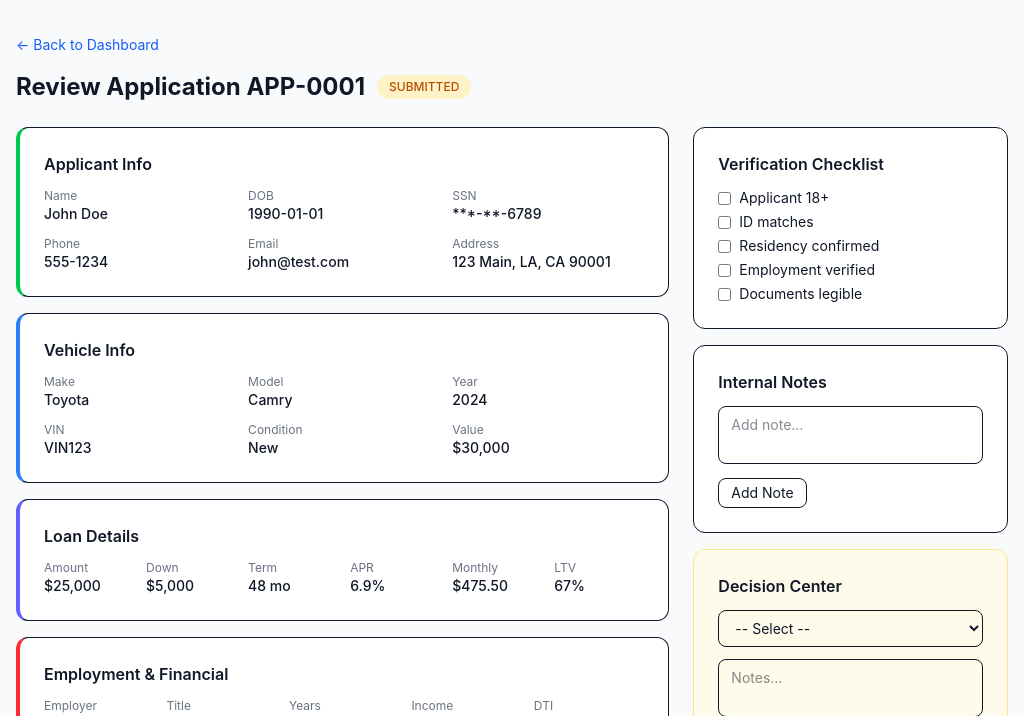
Test case: LoanOfficerReviewPage › handles non-Error action failure
The image size is (1024, 716).
Select "Start Verification" in the dropdown named "Action" at (851, 628), box [718, 610, 983, 647]
(page scrolled)
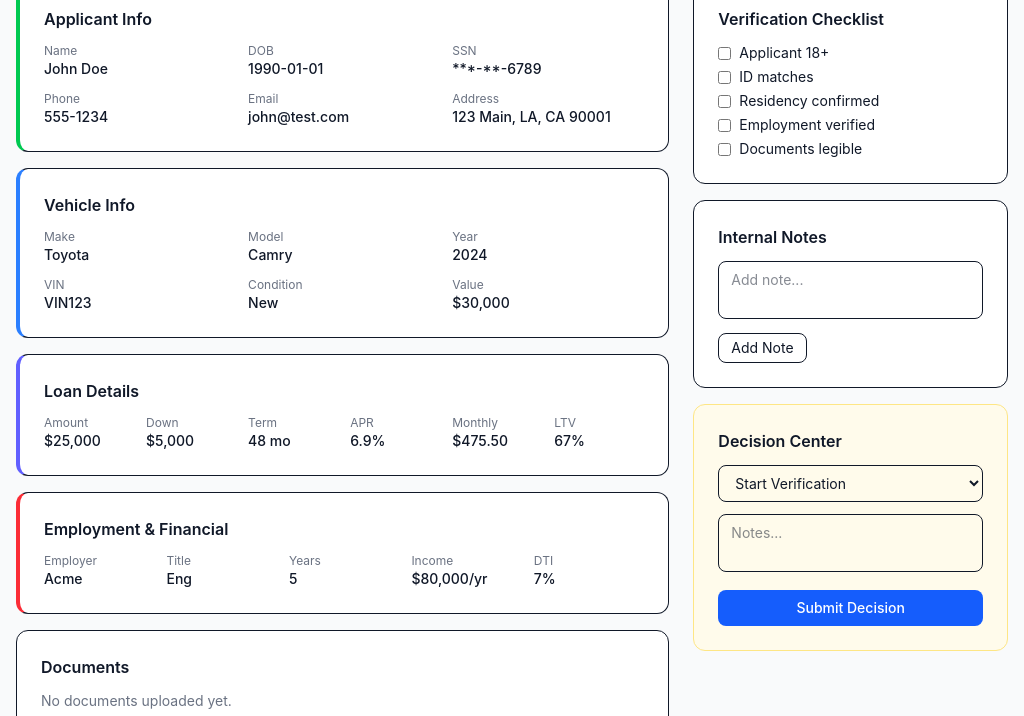
Click the button with test id "decision-btn" at (851, 608), box [718, 590, 983, 626]
(page scrolled)
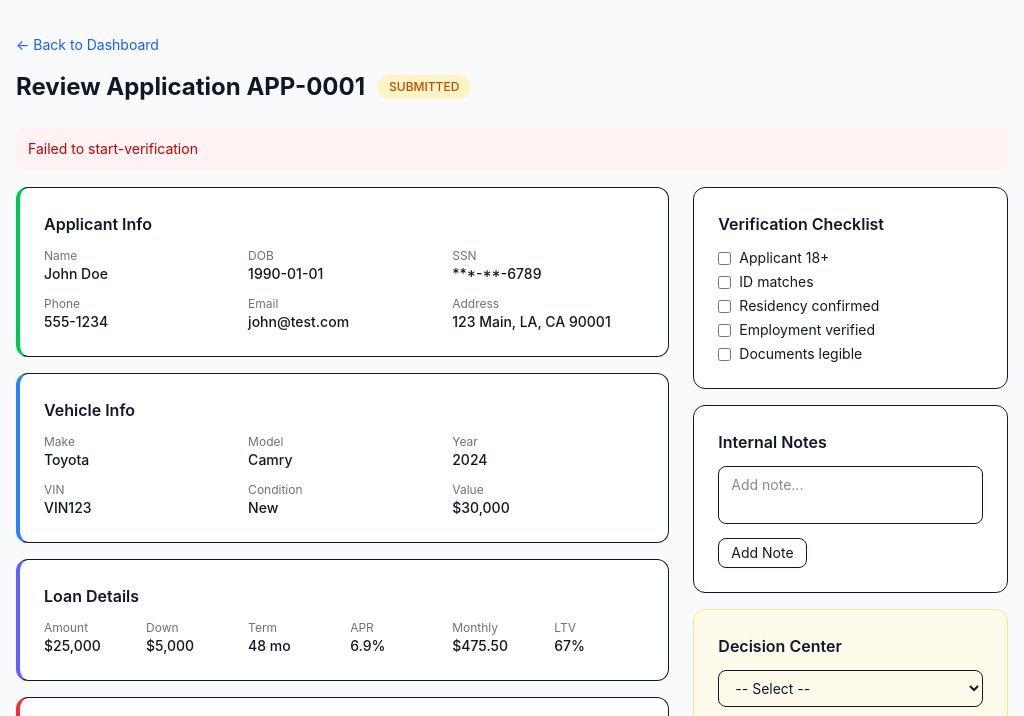
Expected: the message reads "Failed to start-verification", [28, 140, 198, 157]
